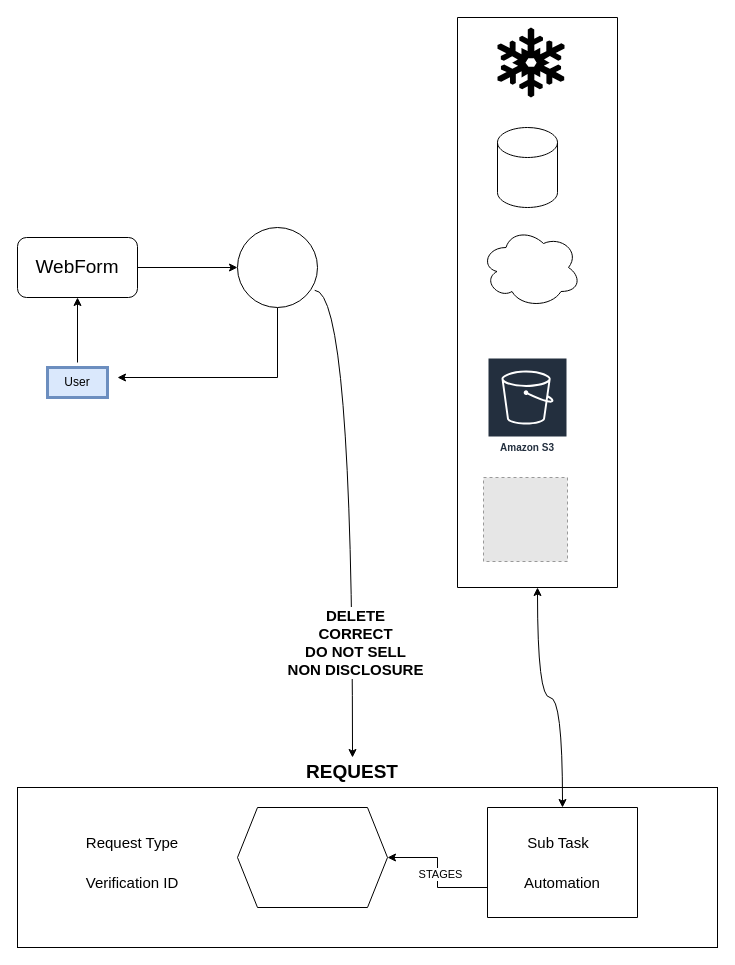
The diagram is 735 pixels wide and 965 high, and some of its shapes have lost their labels. Grey dashed boxes stand in for pictures. The shapes that lost their labels are listed below. From the top down, each one's centre as x and y in pixels, then its label:
At [277,267]: "OneTrust".
At [312,857]: "WORKFLOW".
